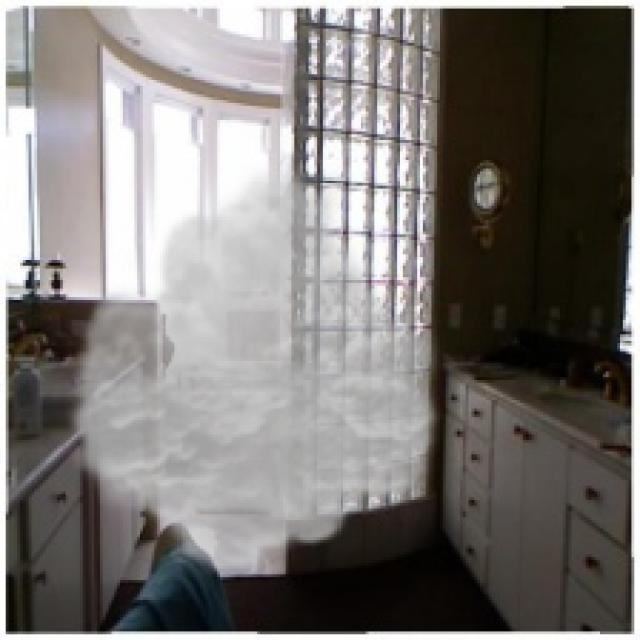smoke: (60, 163, 449, 577)
